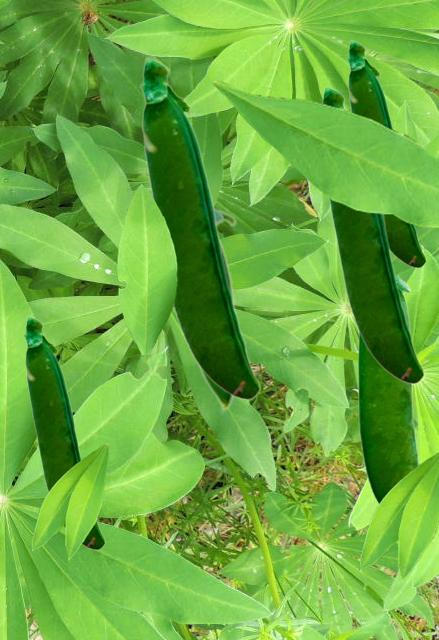pea: (139, 56, 259, 399), (321, 85, 423, 383), (23, 315, 104, 549), (346, 39, 425, 267), (358, 275, 420, 504), (194, 204, 237, 414)
